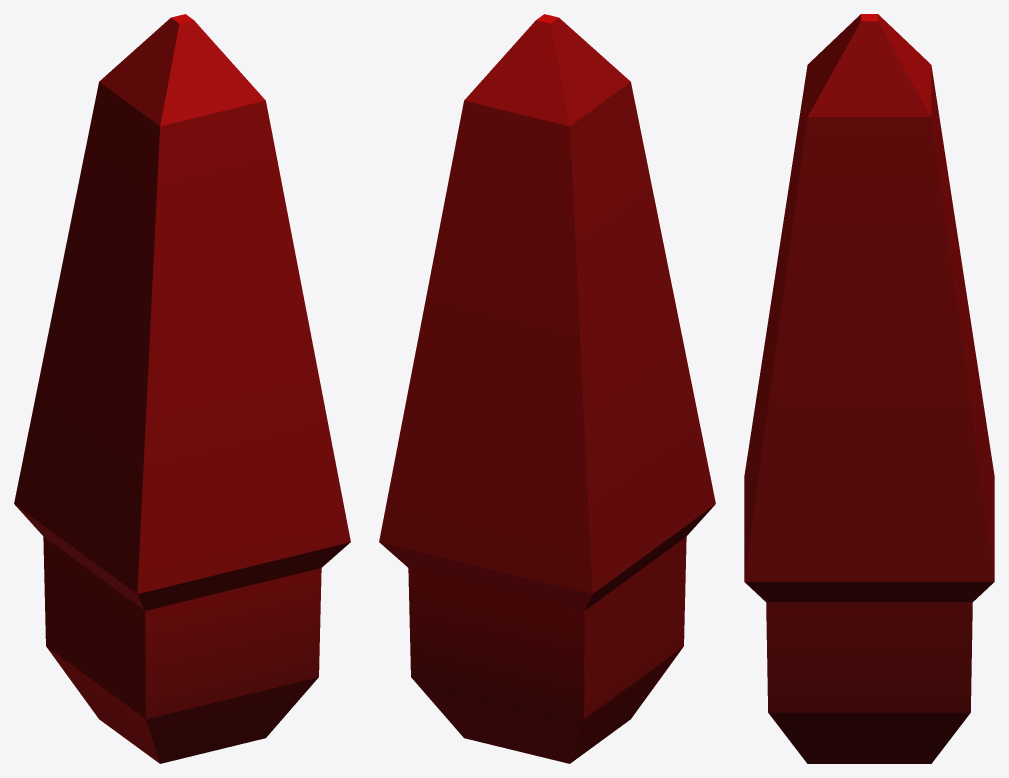
The model's file is geology-carvedstone-obelisk_v5.fbx.
3 views of the same model, side by side, from view 1: azimuth 30°, elevation 25°; view 2: azimuth 150°, elevation 25°; view 3: azimuth 270°, elevation 25° (orthographic).
Parts seen in each view (by area): view 1: Obelisk_v5; view 2: Obelisk_v5; view 3: Obelisk_v5.
Boxes of the visible parts, x1=… form: Obelisk_v5: x1=14, y1=14, x2=350, y2=763; Obelisk_v5: x1=379, y1=14, x2=715, y2=763; Obelisk_v5: x1=744, y1=14, x2=994, y2=763.
Size of the model in its own units: 1.71 by 5.42 by 1.71.
